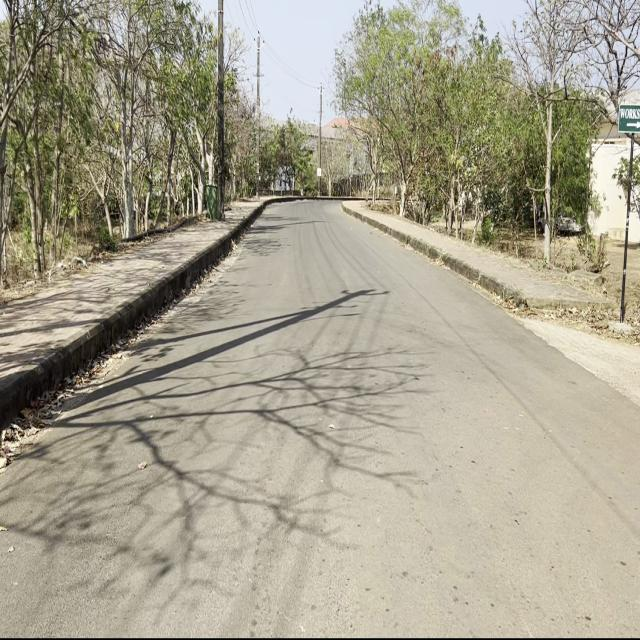Road: (2, 202, 639, 632)
